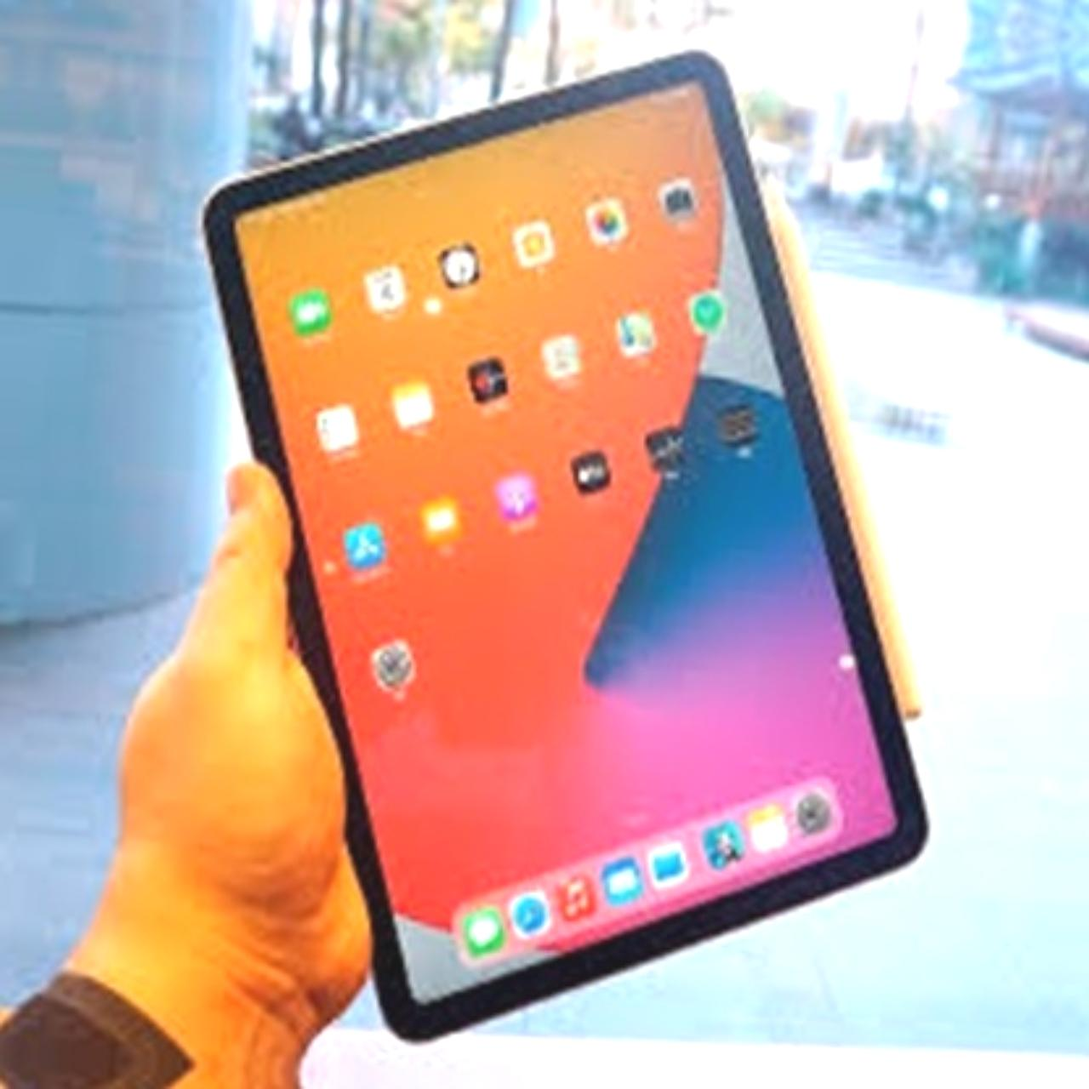Tablet_PC: (143, 23, 970, 1081)
